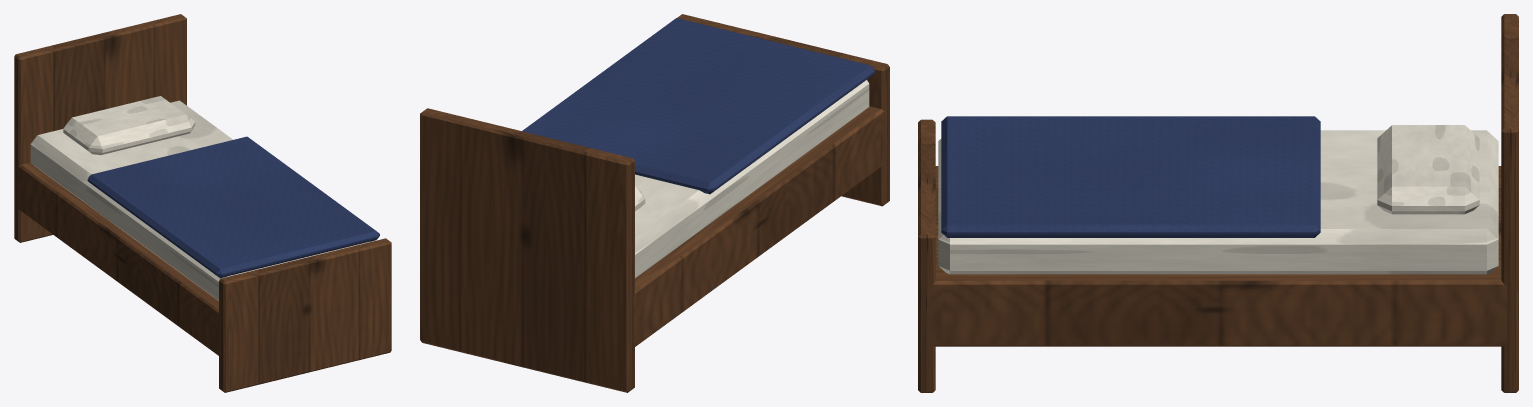
Rendered from OB_Lozko.fbx.
The picture shows the model from 3 angles, left to right: view 1: azimuth 30°, elevation 25°; view 2: azimuth 150°, elevation 25°; view 3: azimuth 270°, elevation 25°; orthographic projection. The views are drawn at different scales.
Visible parts, largest first — view 1: Lozko; view 2: Lozko; view 3: Lozko.
Boxes of the visible parts, x1,y1,x2,y2 form: Lozko: [14, 14, 391, 392]; Lozko: [420, 14, 889, 392]; Lozko: [918, 14, 1518, 392].
Size of the model in its own units: 0.95 by 1 by 2.06.
